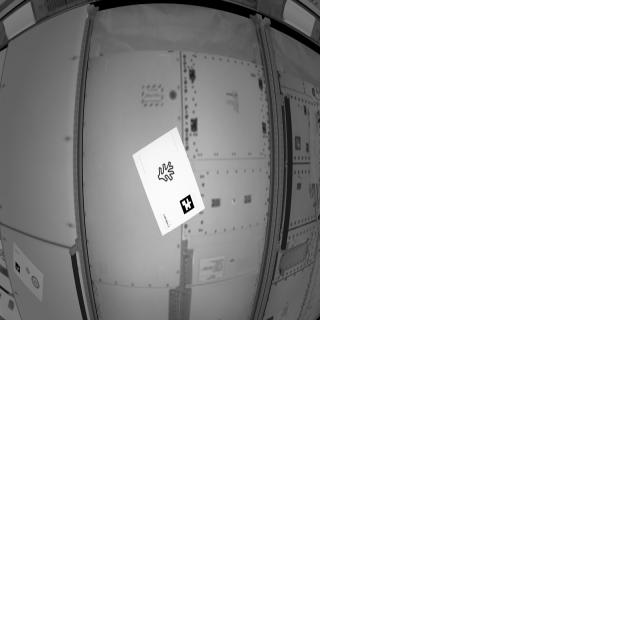coral: (156, 161, 179, 187)
